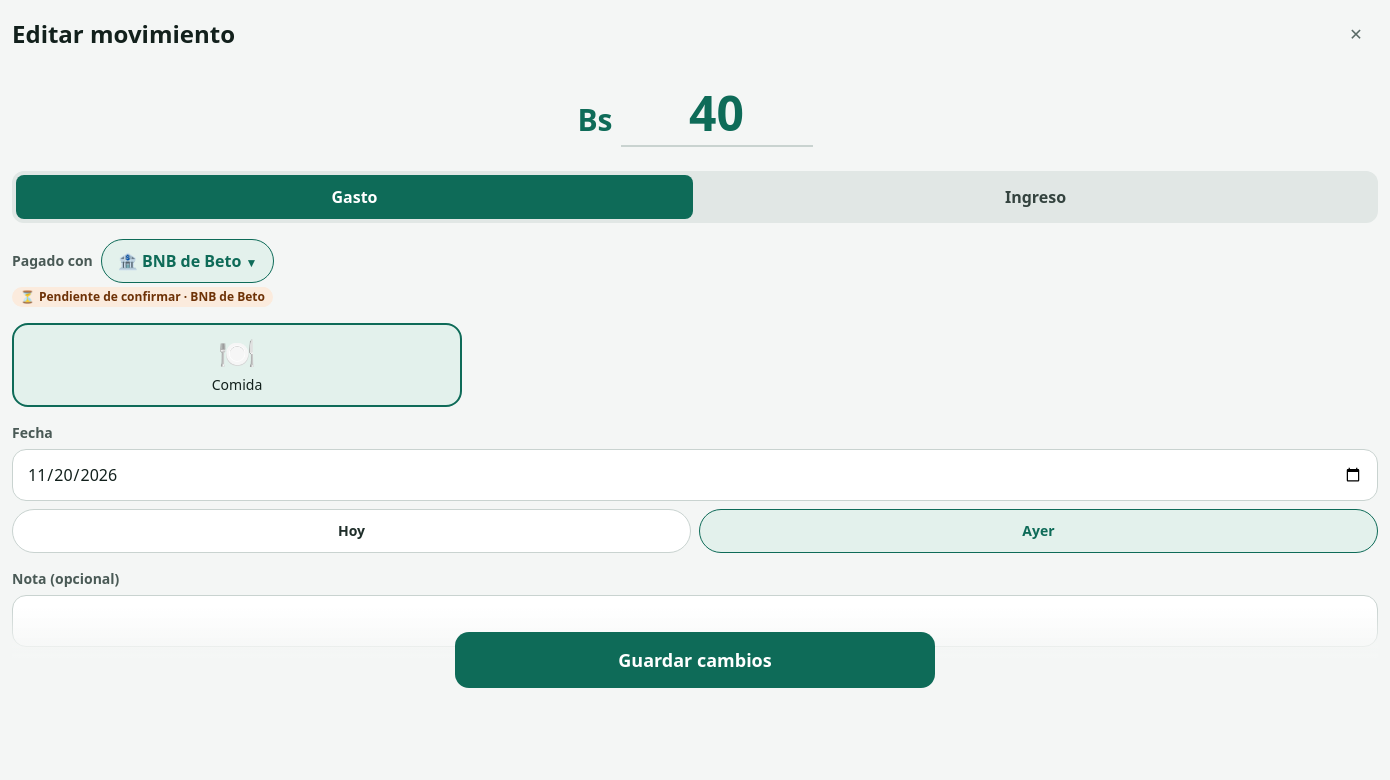
Test: Editar con fuente › sin cambiar la fuente no se manda cuenta_id; pasar a ingreso con banco se frena
Later steps or results of the test are not shown.
Expected: the button with test id "chip-fuente" is shown, [101, 239, 274, 283]
Click the tab "Ingreso". click: point(1036, 197)
box: [697, 175, 1374, 219]
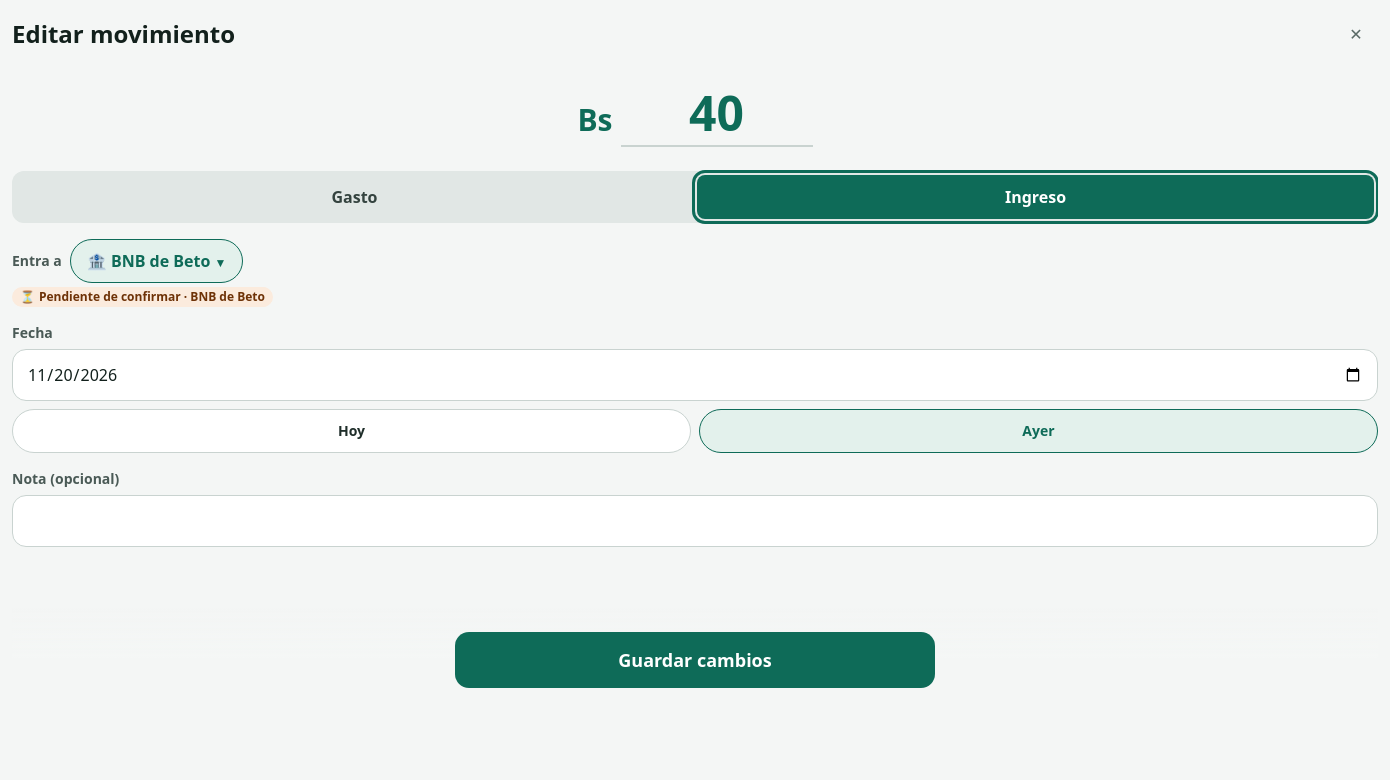
Click the button "Guardar cambios". click: point(695, 660)
box: [455, 632, 935, 688]
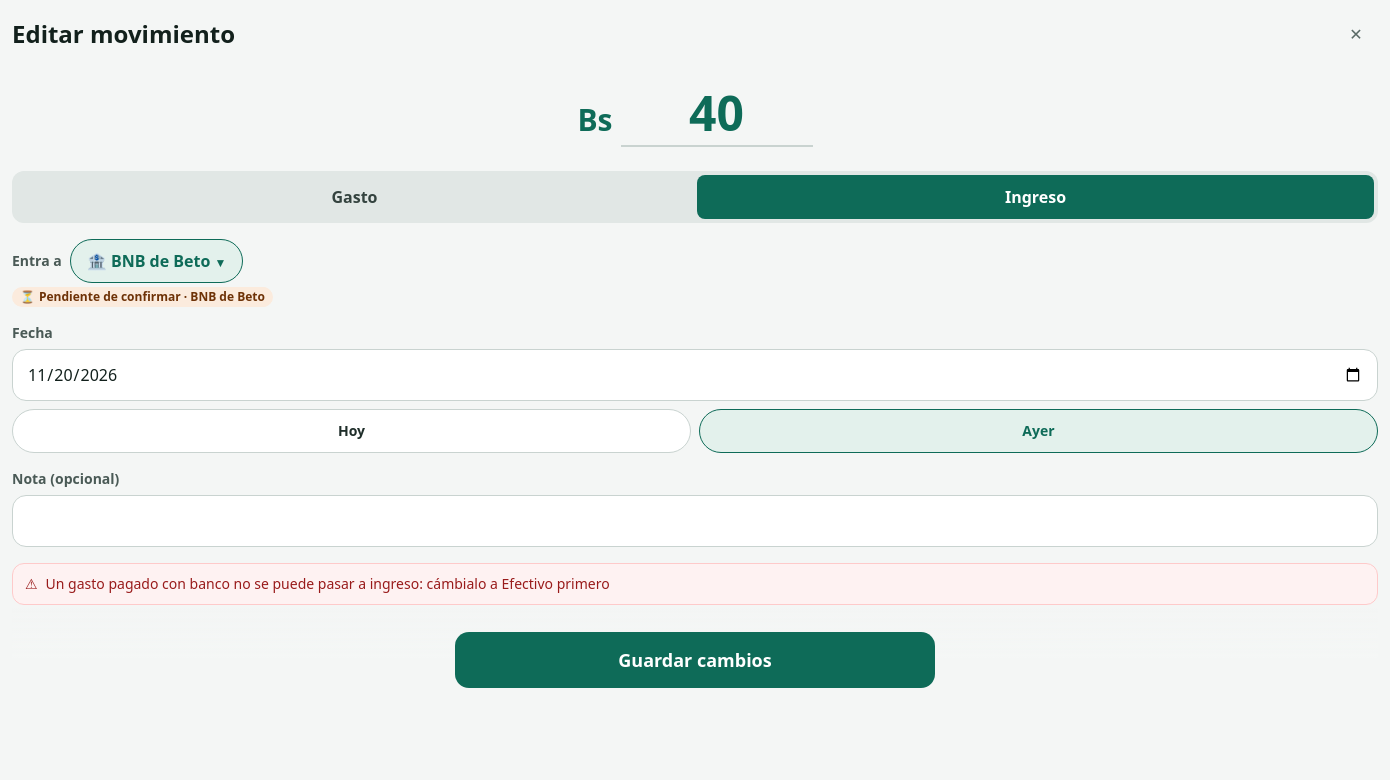
Result: the message shows "Un gasto pagado con banco no se puede pasar a ingreso" at [46, 574, 610, 593]
